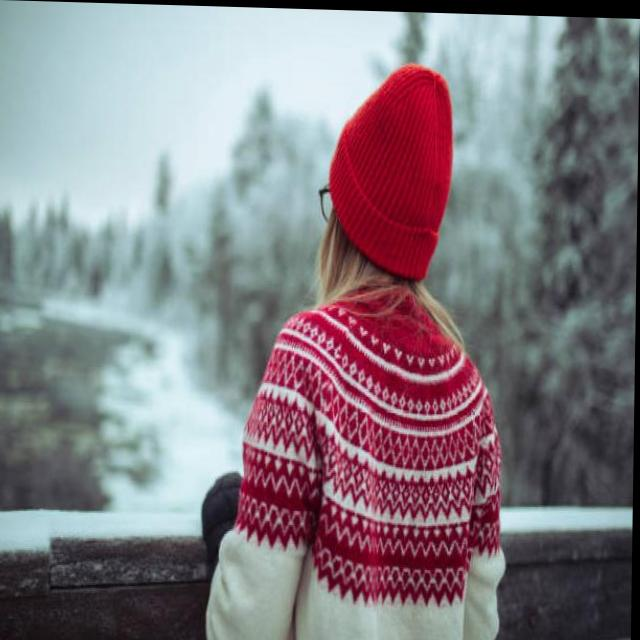no helmet: (310, 42, 459, 305)
